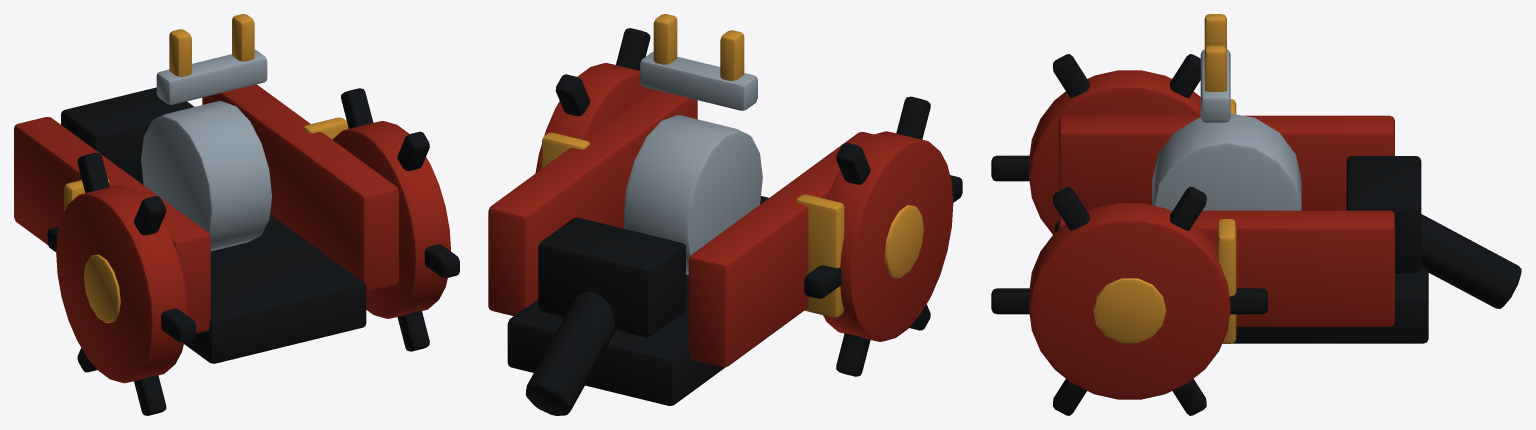
The model's file is CannonBody.obj.
3 views of the same model, side by side, from view 1: azimuth 30°, elevation 25°; view 2: azimuth 150°, elevation 25°; view 3: azimuth 270°, elevation 25° (orthographic). The views are drawn at different scales.
Visible parts, largest first — view 1: CannonBody; view 2: CannonBody; view 3: CannonBody.
Part boxes in pixels (box(x1,y1,x2,y2)): CannonBody: box(14, 14, 459, 415); CannonBody: box(488, 14, 962, 415); CannonBody: box(991, 14, 1521, 415).
Bounding box in the file's own units: 0.98 × 0.9298 × 1.42.
